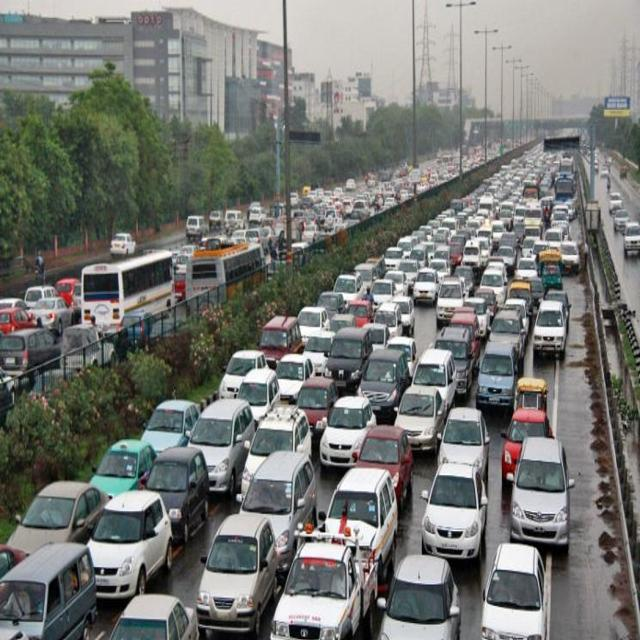Vehicles: (276, 503, 374, 640), (0, 533, 102, 640), (205, 499, 273, 640), (97, 493, 179, 600), (499, 443, 575, 548), (479, 538, 551, 640), (427, 459, 488, 564), (189, 398, 254, 494), (388, 547, 452, 640), (142, 457, 216, 536), (352, 344, 406, 425), (104, 594, 194, 640), (443, 394, 492, 478), (321, 393, 372, 470), (395, 385, 448, 458), (97, 432, 149, 498), (329, 319, 371, 397), (219, 335, 270, 396), (431, 321, 472, 394), (477, 338, 518, 409), (142, 397, 192, 452), (531, 299, 574, 360), (294, 374, 334, 434), (404, 265, 450, 313), (257, 314, 296, 360), (439, 270, 467, 330), (296, 304, 326, 348), (537, 256, 569, 296), (557, 236, 588, 272), (376, 295, 405, 330), (334, 274, 365, 306), (482, 270, 508, 304), (622, 215, 640, 255), (611, 208, 636, 232), (462, 241, 481, 271), (371, 280, 399, 299), (605, 190, 628, 212), (384, 248, 406, 270)
